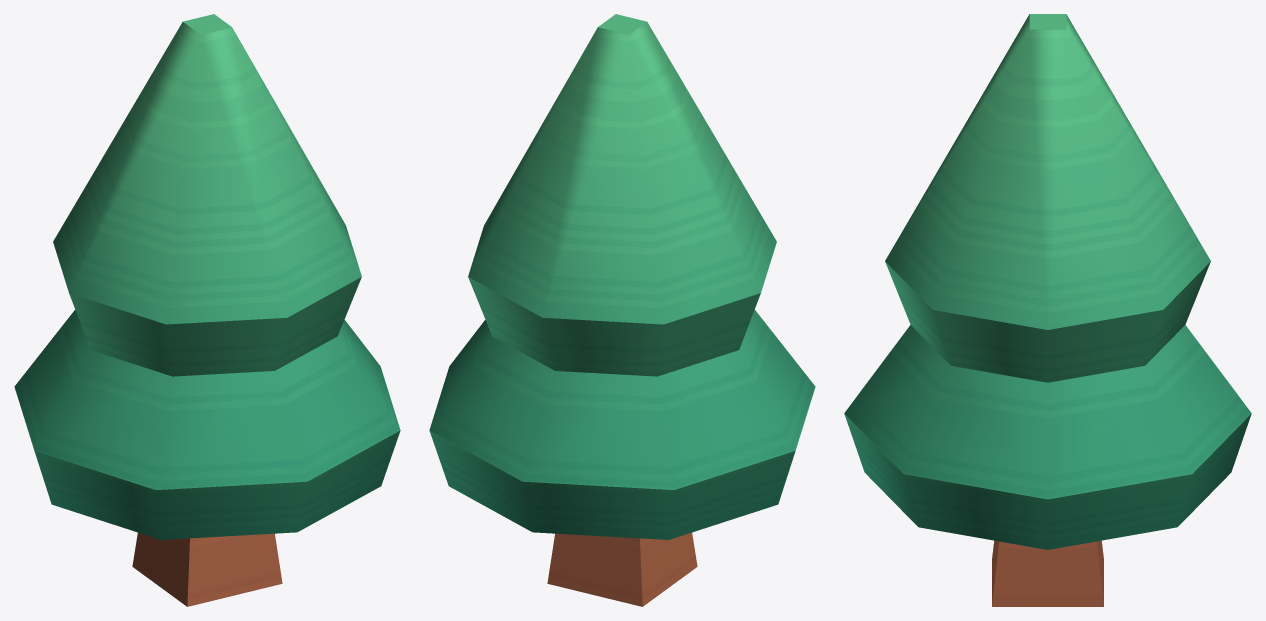
The model's file is detail-tree-large.061.glb.
The picture shows the model from 3 angles, left to right: view 1: azimuth 30°, elevation 25°; view 2: azimuth 150°, elevation 25°; view 3: azimuth 270°, elevation 25°; orthographic projection.
Visible parts, largest first — view 1: detail-tree-large.061; view 2: detail-tree-large.061; view 3: detail-tree-large.061.
Part boxes in pixels (<box>): detail-tree-large.061: <box>14,14,400,606</box>; detail-tree-large.061: <box>429,14,815,606</box>; detail-tree-large.061: <box>844,14,1251,606</box>.
Bounding box in the file's own units: 0.5 × 0.76 × 0.5.
Materials: 1 (1 with a texture image).
